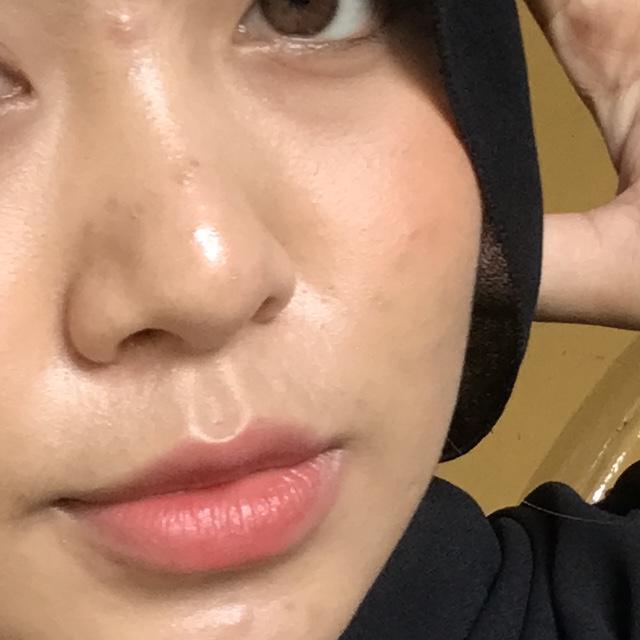mendengar: (380, 0, 640, 475)
